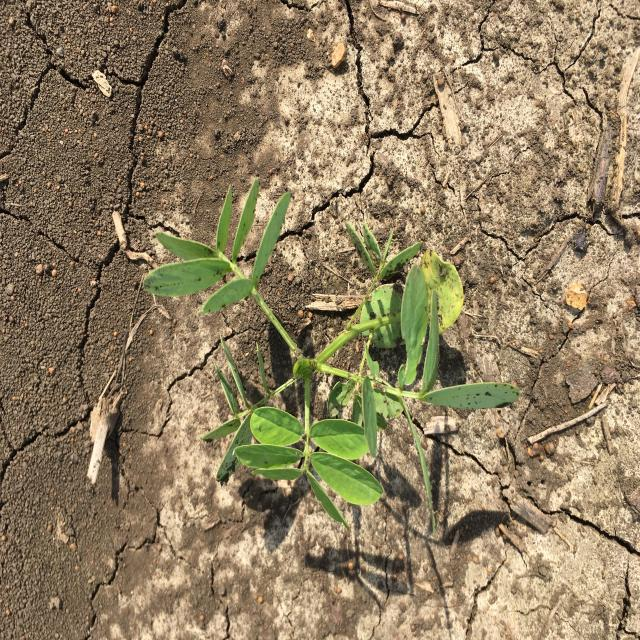Sicklepod: (141, 176, 524, 531)
